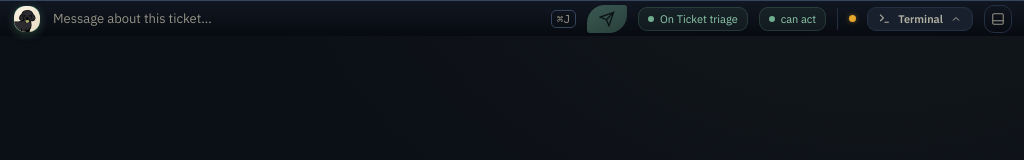
the @ picker › searches the screen's workspace and inserts the path it is given
Type "look at @appact" into the field with placeholder "Message about this ticket…" at (295, 18), box left=51, top=9, right=540, bottom=28
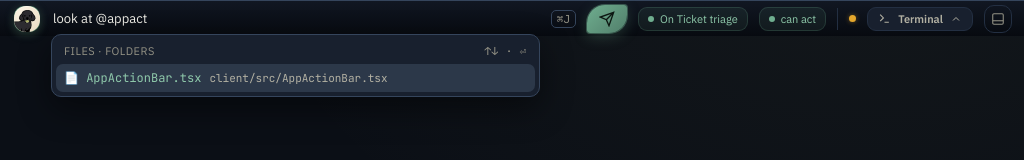
Press Enter in the field with placeholder "Message about this ticket…", box left=51, top=9, right=540, bottom=28
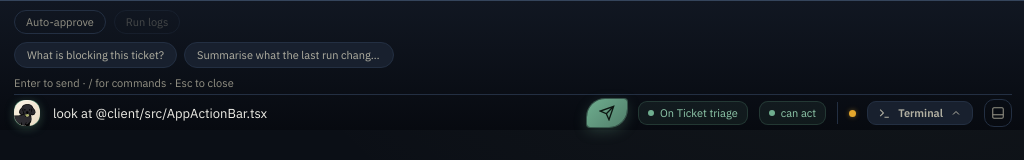
Check: the field with placeholder "Message about this ticket…" holds "look at @client/src/AppActionBar.tsx ", box left=51, top=104, right=576, bottom=122
